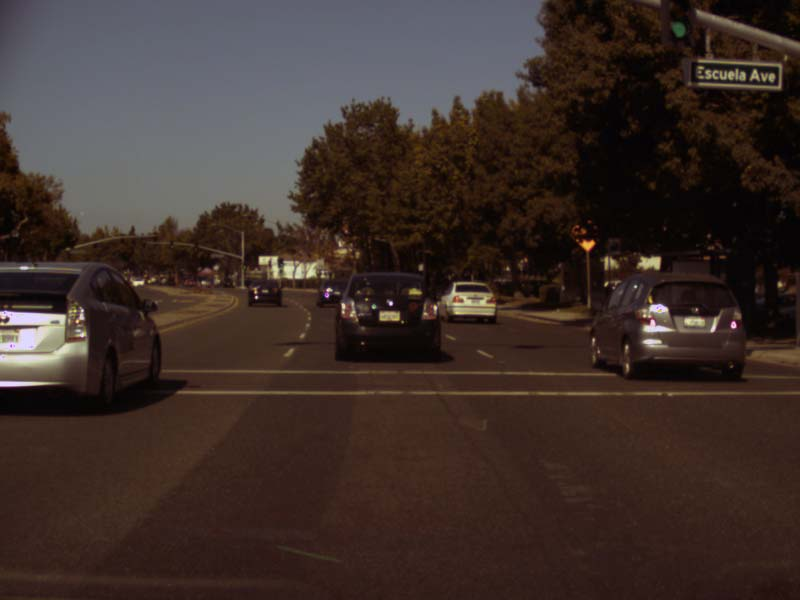Green: (194, 239, 198, 251), (279, 258, 283, 267), (170, 239, 173, 249), (242, 262, 246, 269)
Red: (142, 239, 145, 246)
